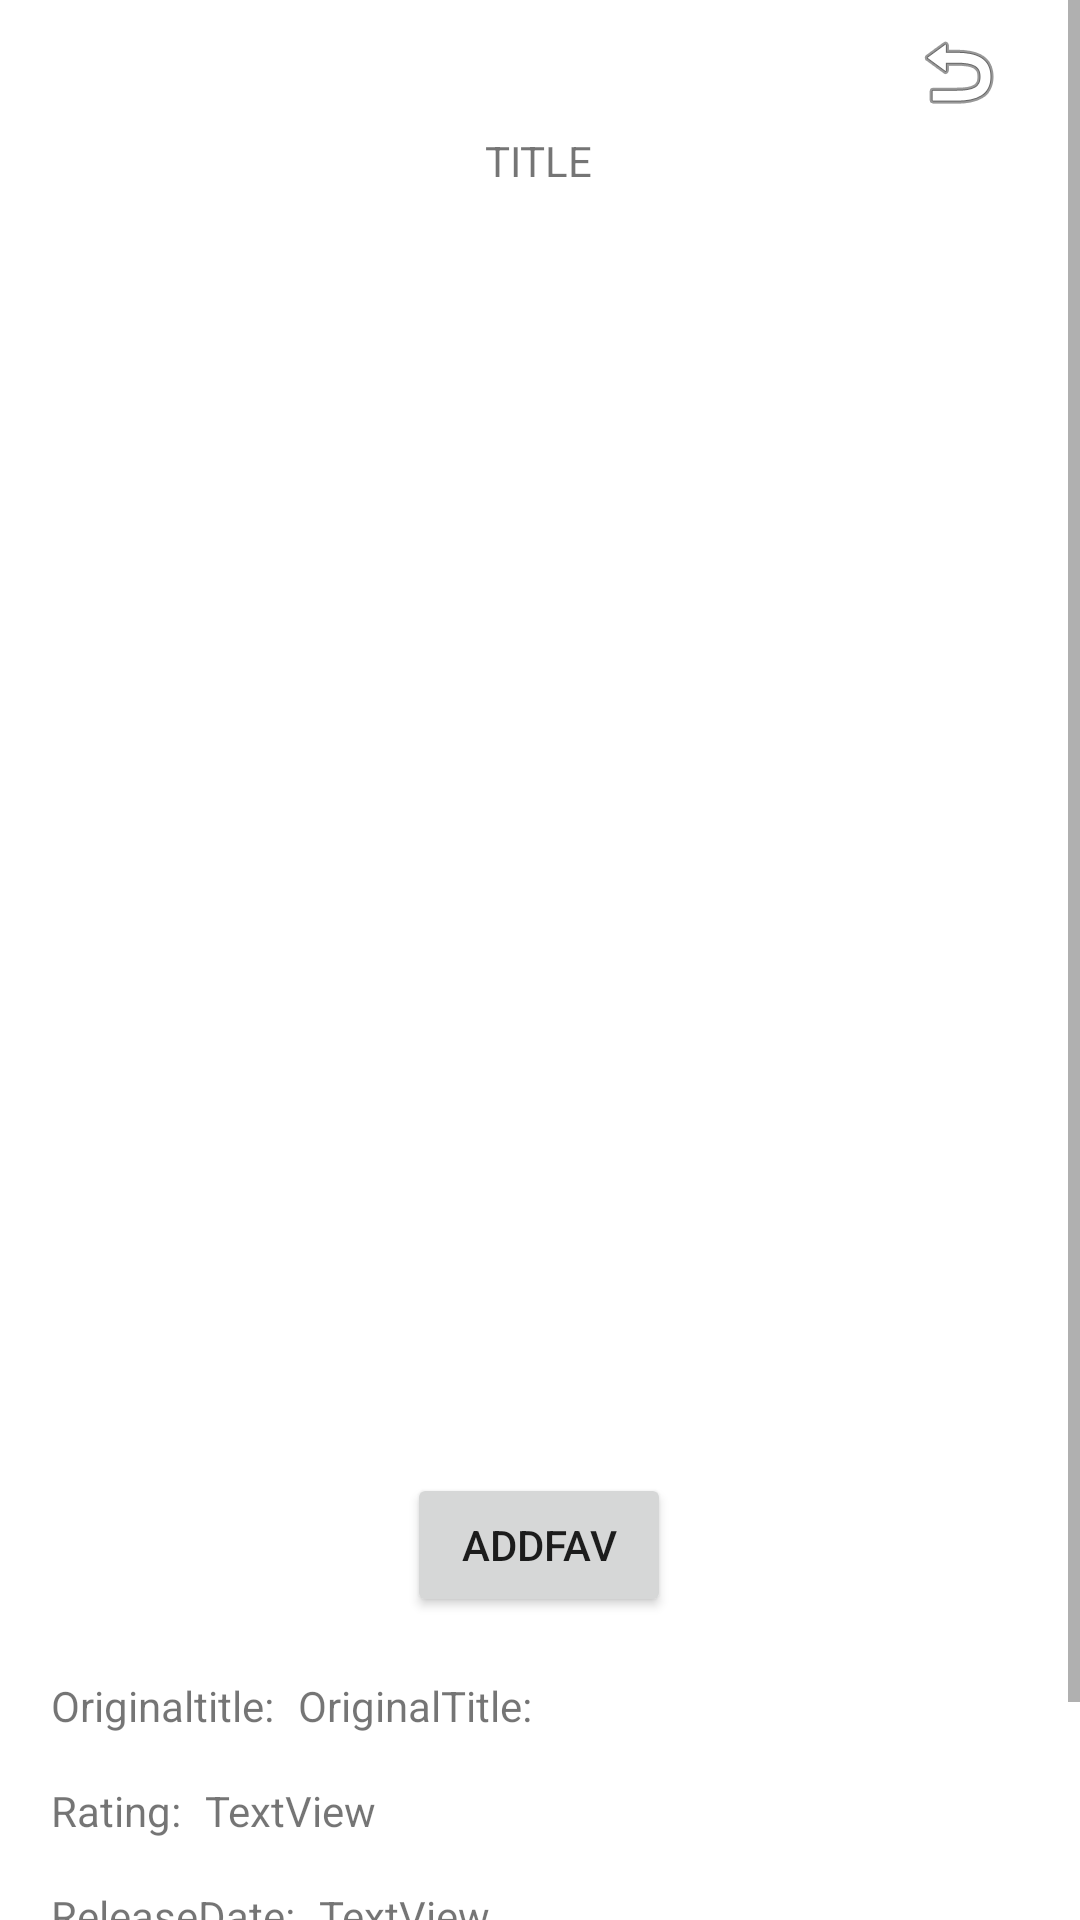

Icon bounding boxes for this 1080*1920 phone screenshot, format (x1, y1, x2, y2):
revert: (925, 41, 994, 104)
